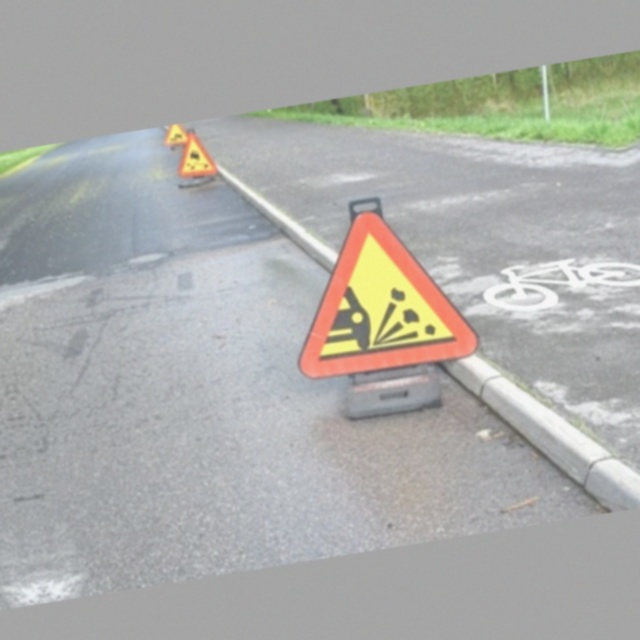Loose_Gravel: (288, 194, 473, 378)
